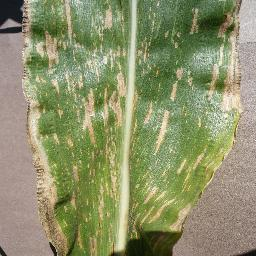Gray_Leaf_Spot: (85, 0, 127, 256), (129, 164, 193, 256), (35, 170, 87, 256), (19, 0, 74, 75), (217, 0, 246, 133), (17, 77, 48, 170), (54, 76, 83, 170), (194, 135, 237, 194), (170, 59, 196, 102), (155, 109, 173, 155), (184, 3, 203, 34), (138, 35, 153, 74), (132, 88, 139, 162), (205, 62, 217, 104), (164, 27, 181, 48), (144, 100, 155, 131), (192, 114, 205, 136)
